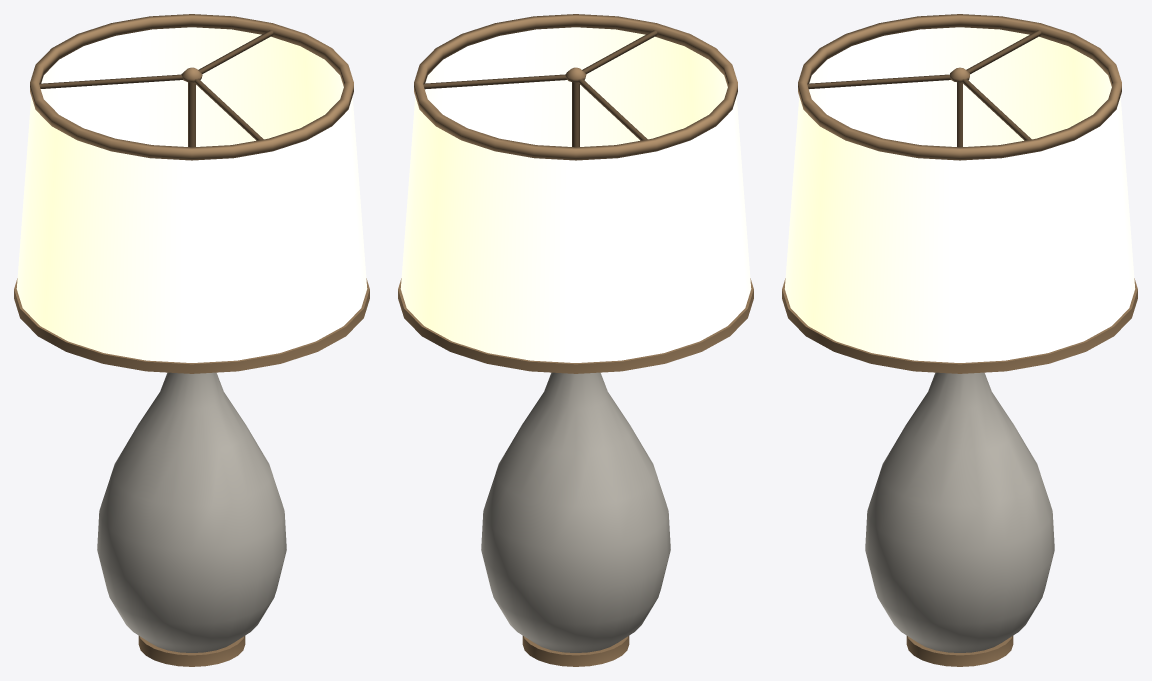
Rendered from living_table_lamp.gltf.
3 renders of one model, left to right at view 1: azimuth 30°, elevation 25°; view 2: azimuth 150°, elevation 25°; view 3: azimuth 270°, elevation 25°, orthographic.
Parts seen in each view (by area): view 1: LivingTableLamp_Shade, LivingTableLamp_Body, LivingTableLamp_Fitting, LivingTableLamp_Foot; view 2: LivingTableLamp_Shade, LivingTableLamp_Body, LivingTableLamp_Fitting, LivingTableLamp_Foot; view 3: LivingTableLamp_Shade, LivingTableLamp_Body, LivingTableLamp_Fitting, LivingTableLamp_Foot.
Part boxes in pixels (x1=…): LivingTableLamp_Shade: x1=16, y1=27, x2=367, y2=362; LivingTableLamp_Body: x1=97, y1=372, x2=286, y2=652; LivingTableLamp_Fitting: x1=14, y1=14, x2=369, y2=373; LivingTableLamp_Foot: x1=138, y1=636, x2=245, y2=666; LivingTableLamp_Shade: x1=400, y1=27, x2=751, y2=362; LivingTableLamp_Body: x1=481, y1=372, x2=670, y2=652; LivingTableLamp_Fitting: x1=398, y1=14, x2=753, y2=373; LivingTableLamp_Foot: x1=522, y1=636, x2=629, y2=666; LivingTableLamp_Shade: x1=784, y1=27, x2=1135, y2=362; LivingTableLamp_Body: x1=865, y1=372, x2=1054, y2=652; LivingTableLamp_Fitting: x1=782, y1=14, x2=1137, y2=373; LivingTableLamp_Foot: x1=906, y1=636, x2=1013, y2=666.
Bounding box in the file's own units: 0.334 × 0.597 × 0.334.
